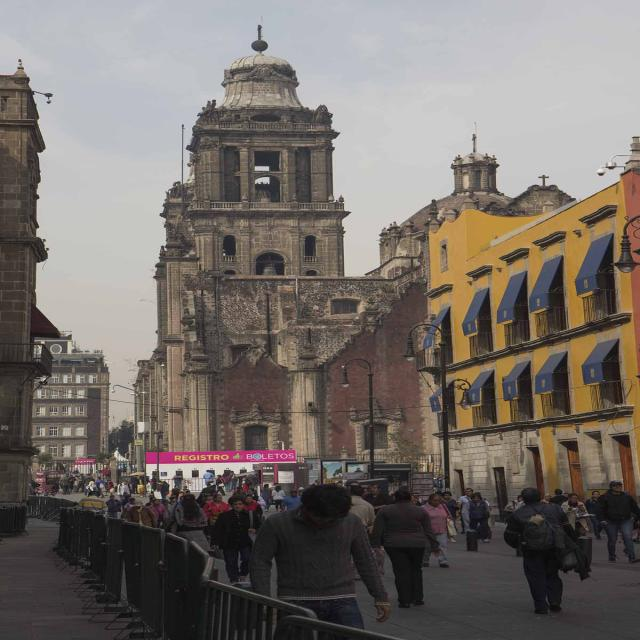body: (250, 483, 393, 639), (499, 485, 596, 615), (368, 486, 442, 609), (211, 495, 262, 587), (595, 479, 640, 564), (418, 493, 455, 568), (559, 492, 591, 538), (348, 485, 377, 535), (174, 493, 209, 532), (464, 493, 491, 543), (456, 487, 478, 539), (439, 491, 460, 544), (583, 490, 604, 540), (361, 482, 390, 518), (202, 493, 232, 527), (123, 499, 157, 527), (147, 498, 168, 529), (472, 492, 492, 520), (166, 496, 180, 534), (242, 494, 264, 518), (280, 489, 304, 511), (78, 491, 109, 508), (192, 97, 218, 116), (503, 494, 525, 516), (309, 103, 331, 124), (270, 485, 286, 512), (105, 494, 122, 519), (116, 479, 131, 507), (549, 488, 569, 507), (246, 488, 267, 506), (85, 477, 100, 499), (212, 474, 227, 496), (260, 483, 273, 508), (137, 472, 150, 497), (72, 472, 87, 493), (128, 474, 142, 495), (197, 491, 214, 508), (34, 482, 52, 498), (122, 498, 136, 518), (83, 473, 94, 496), (202, 469, 216, 487), (103, 478, 116, 497), (240, 476, 251, 498), (59, 475, 71, 495), (154, 479, 164, 501), (96, 476, 105, 499), (160, 480, 170, 500), (171, 484, 182, 502), (228, 470, 237, 492), (536, 493, 552, 505), (171, 472, 184, 486), (220, 473, 230, 491), (67, 474, 77, 491), (232, 486, 246, 498), (413, 491, 424, 506), (150, 472, 158, 492), (344, 479, 361, 488), (241, 480, 250, 496), (52, 480, 62, 492), (102, 466, 112, 478), (179, 485, 191, 494), (29, 479, 35, 496), (145, 496, 155, 506), (516, 500, 527, 508), (310, 478, 320, 486), (68, 468, 81, 474), (434, 490, 443, 498), (298, 486, 305, 496), (336, 479, 344, 487), (270, 482, 280, 488), (127, 482, 132, 494), (119, 499, 127, 506), (102, 478, 107, 487), (563, 493, 571, 498)
